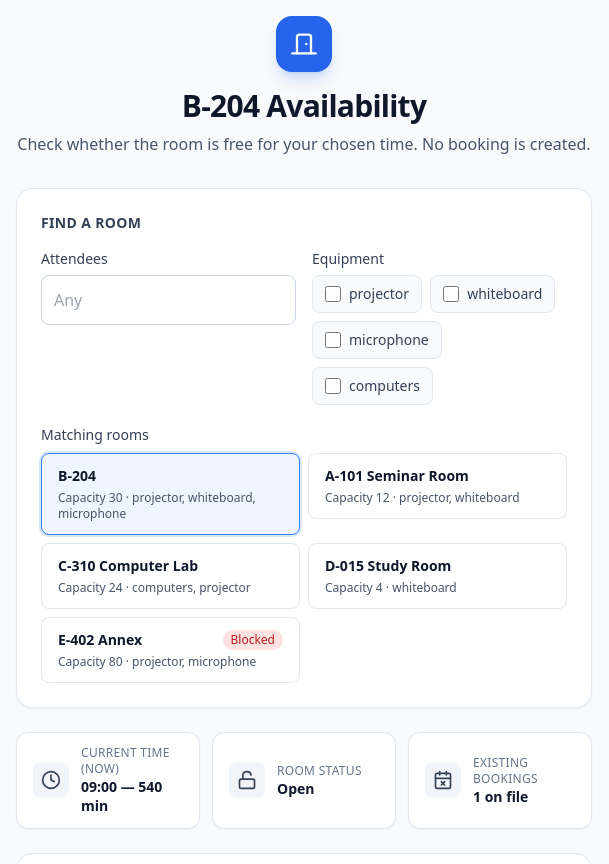
Test: UI integration › F1/F4: capacity filter keeps exact capacity and shows empty state
The image size is (609, 864).
In the number field labelled "Attendees": {"x": 168, "y": 300} [41,275,296,325], type "30"
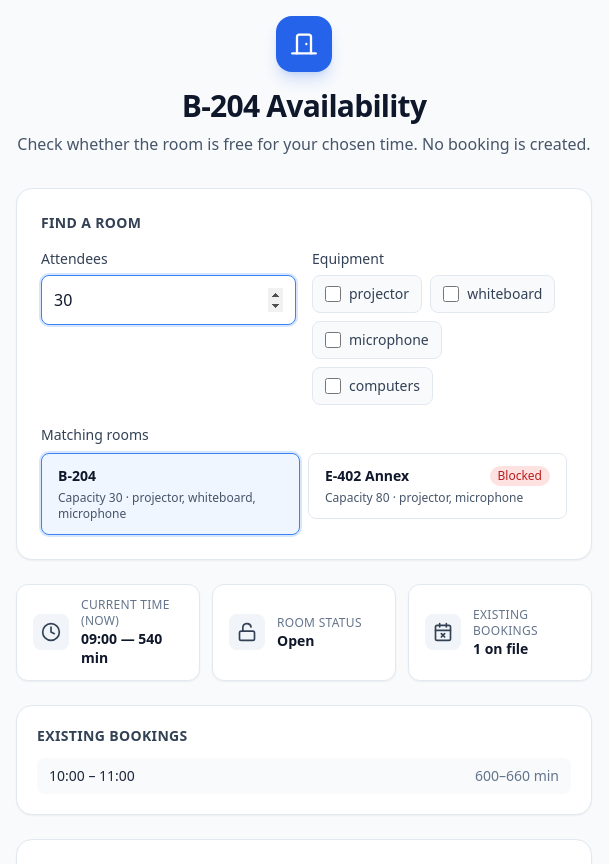
Replace the text in the number field labelled "Attendees" with "1000": {"x": 168, "y": 300} [41,275,296,325]
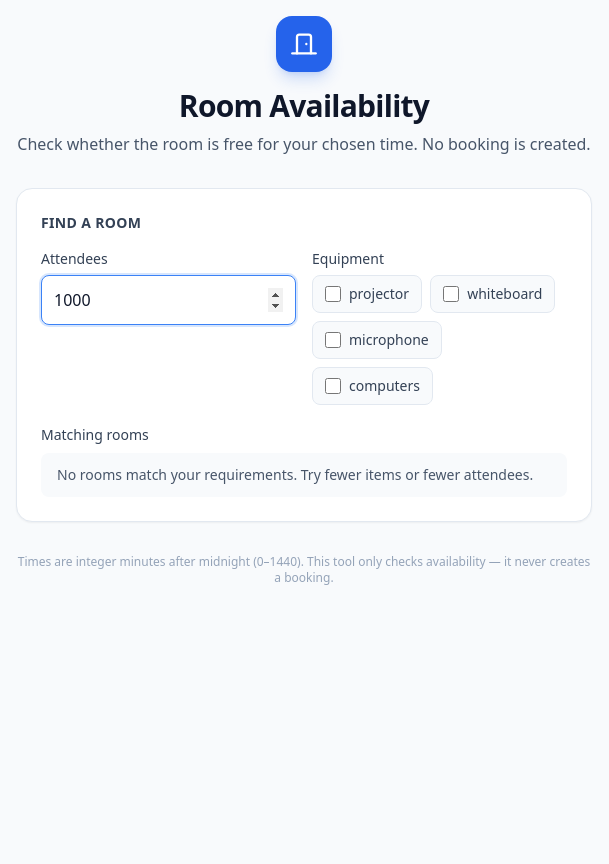
Check: the text with test id "empty-state" is shown, box [41,453,567,497]
